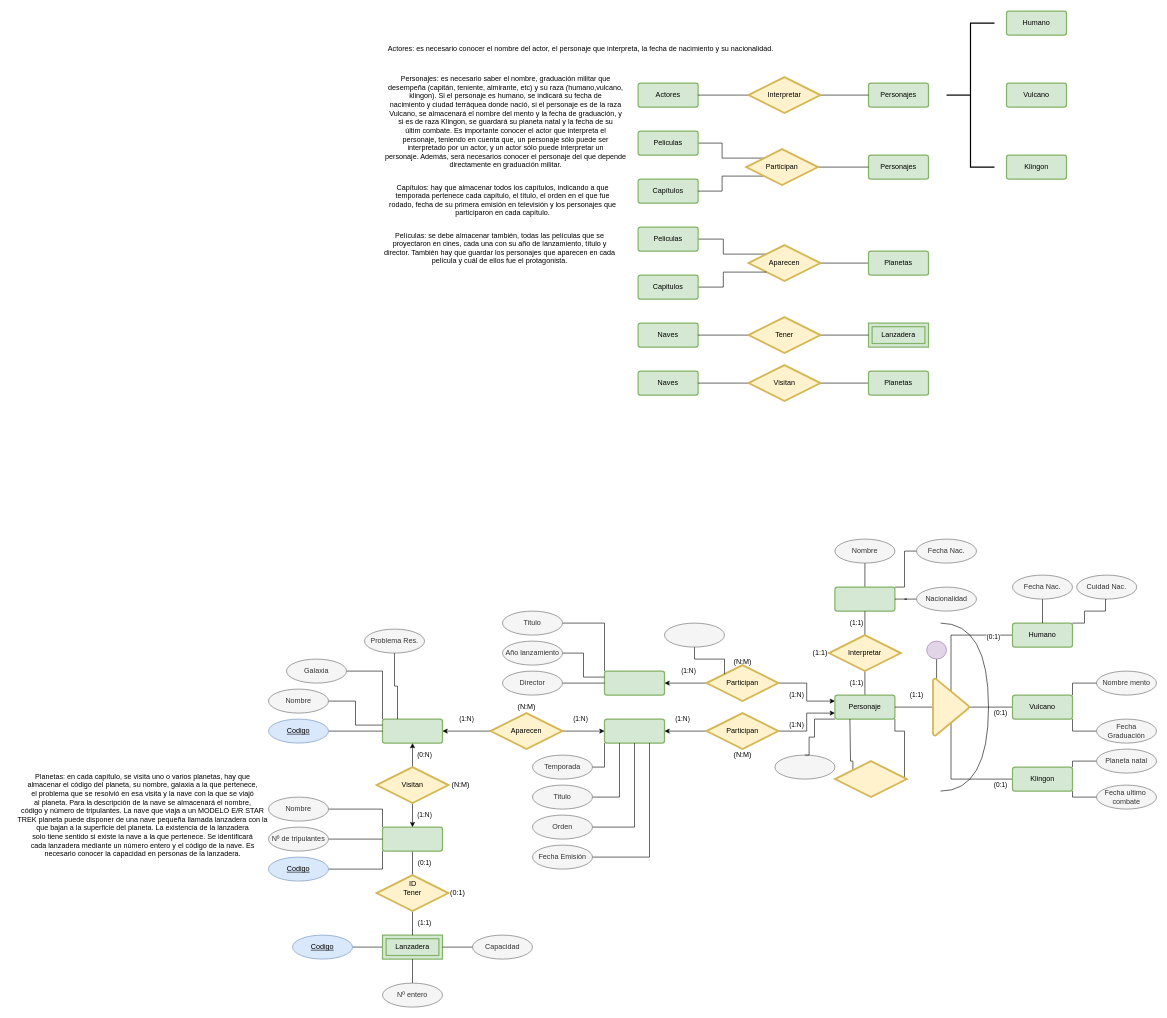
Image size: 1167x1018. Some labels were removed from this diagram. Each missing label, with the centre of its shape:
"Actore" belongs at (x=864, y=598).
"Capítulo" belongs at (x=634, y=730).
"Graduación militar" belongs at (x=804, y=766).
"Nave" belongs at (x=412, y=838).
"Pelicula" belongs at (x=634, y=682).
"Planeta" belongs at (x=412, y=730).
"Prota" belongs at (x=694, y=634).
"rango superior" belongs at (x=871, y=779).
"Ser" belongs at (x=936, y=649).
